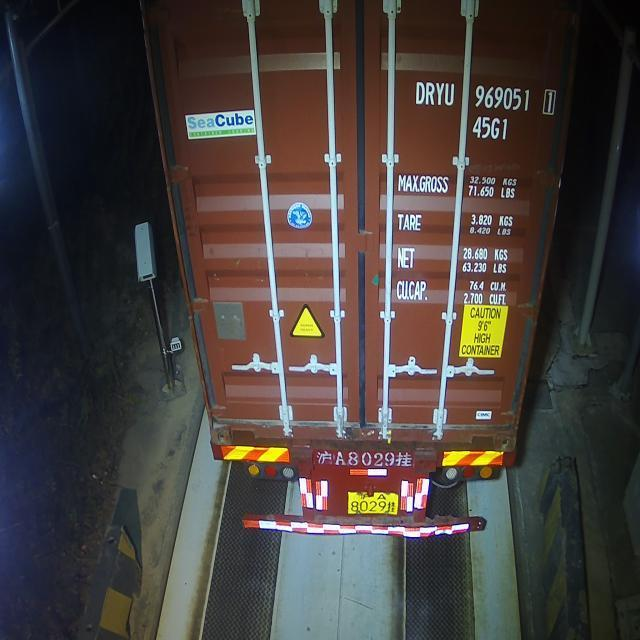ISO: (472, 114, 510, 140)
container_number: (412, 81, 552, 113)
